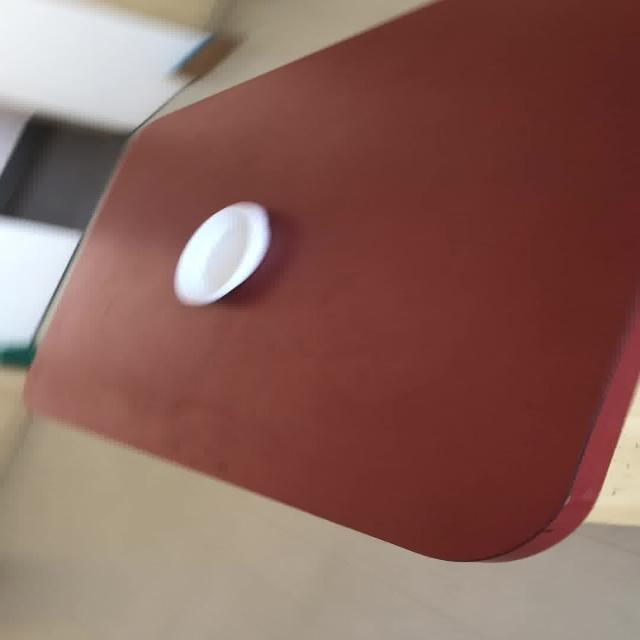plate: (13, 0, 637, 562), (172, 199, 270, 306)
